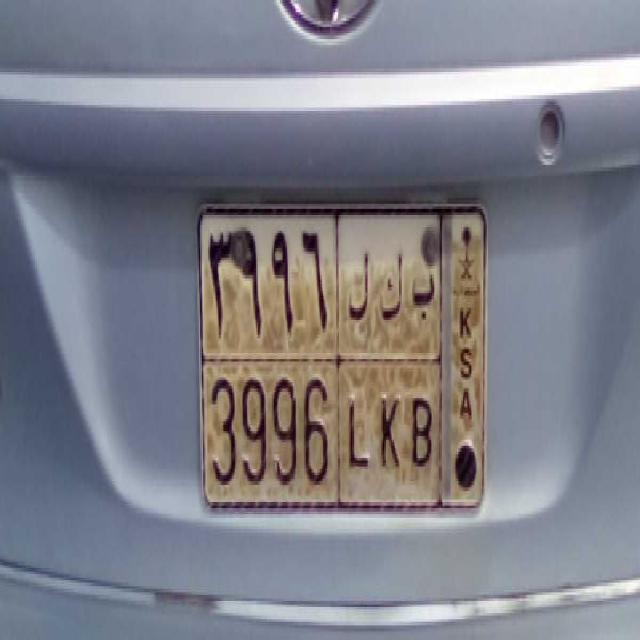license_plate: (205, 358, 442, 509)
